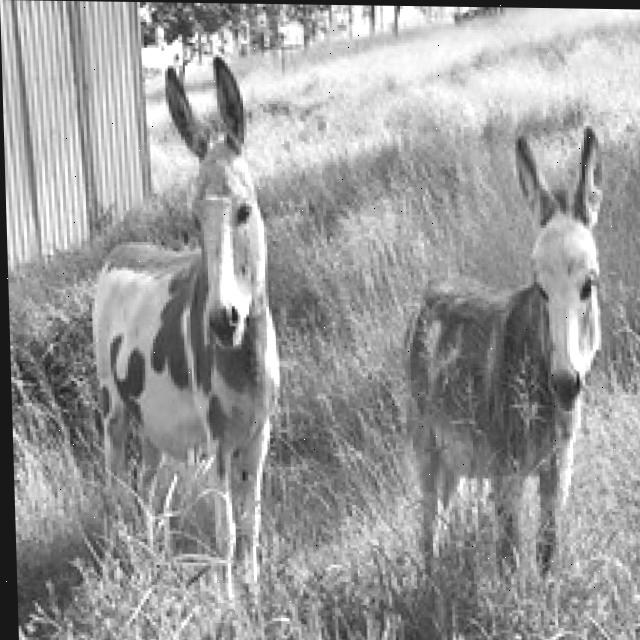Donkey: (82, 52, 287, 607), (392, 120, 614, 580)
